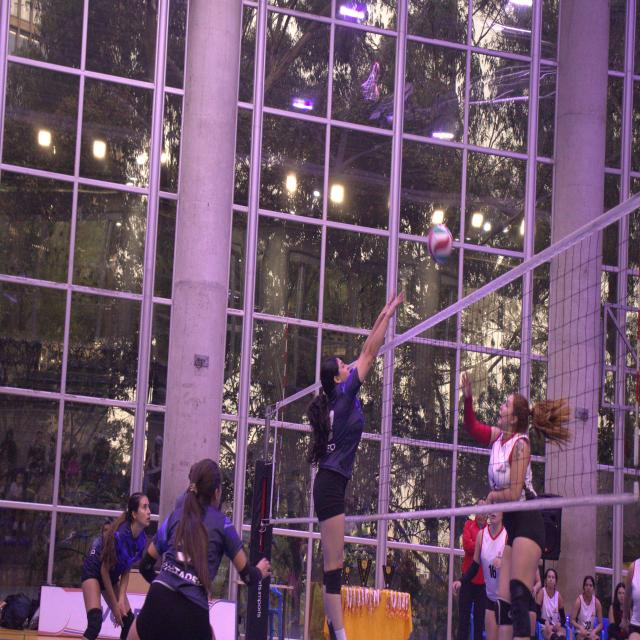volleyball: (427, 224, 453, 264)
